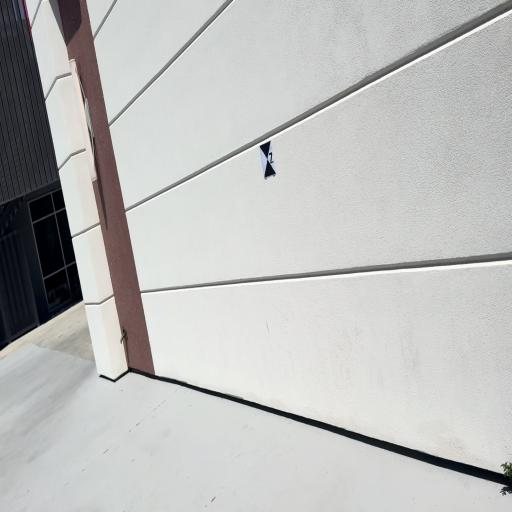target7: (259, 140, 277, 178)
